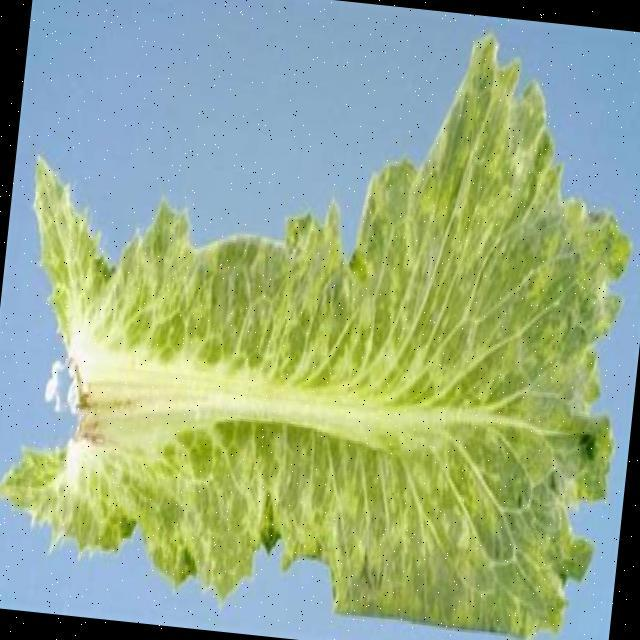Lettuce Mosaic Virus: (20, 107, 637, 606)
